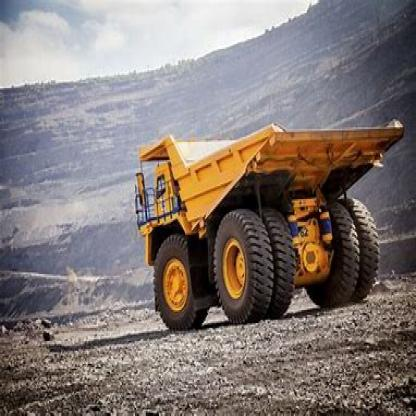dump_truck: (131, 103, 402, 323)
